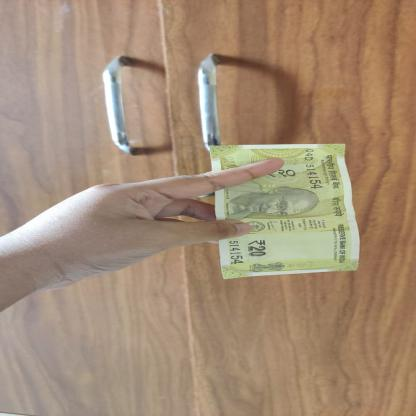New20Front: (204, 143, 366, 280)
